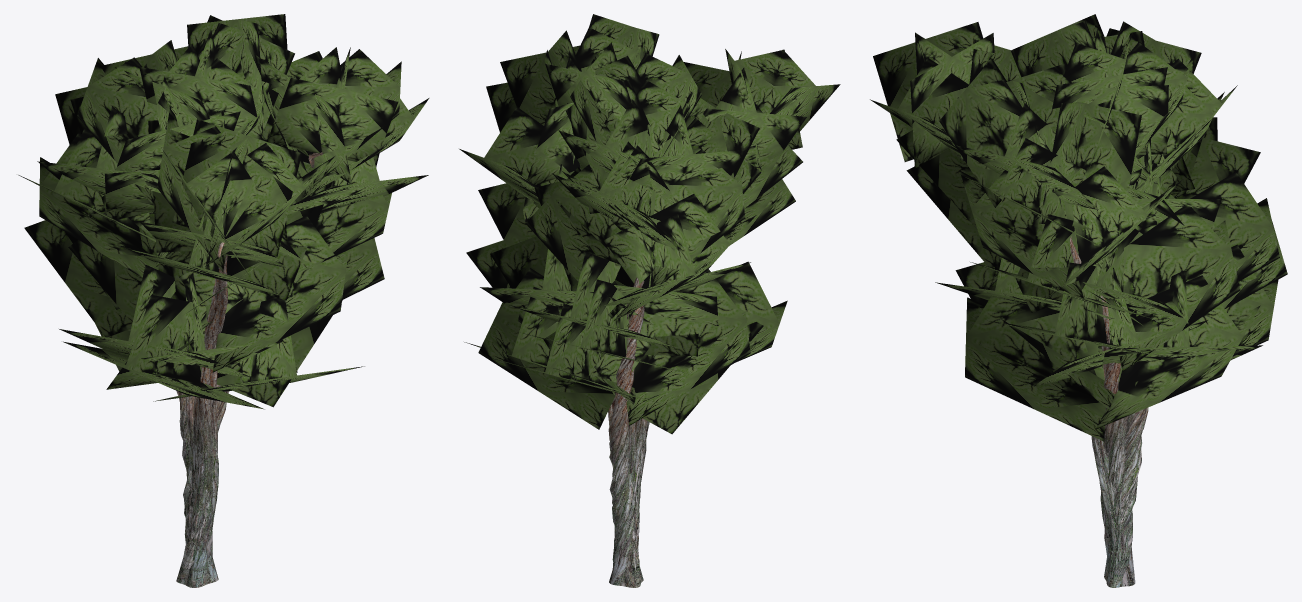
Rendered from SmallTree_03_v1.obj.
The picture shows the model from 3 angles, left to right: view 1: azimuth 30°, elevation 25°; view 2: azimuth 150°, elevation 25°; view 3: azimuth 270°, elevation 25°; orthographic projection. The views are drawn at different scales.
Parts seen in each view (by area): view 1: bark08, pine branch_t; view 2: bark08, pine branch_t; view 3: bark08, pine branch_t.
Boxes of the visible parts, box(x1,y1,x2,y2) form: bark08: box(18, 14, 429, 409); pine branch_t: box(176, 152, 322, 587); bark08: box(459, 14, 840, 434); pine branch_t: box(608, 277, 649, 587); bark08: box(870, 14, 1287, 441); pine branch_t: box(1070, 236, 1148, 587).
Size of the model in its own units: 46.05 by 72.91 by 49.7.
2 materials, 2 textured.
